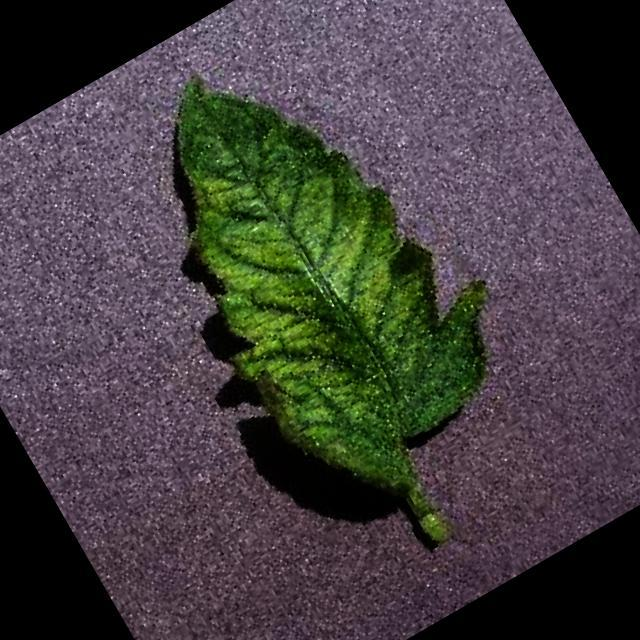Tomato mosaic virus leaf: (93, 1, 550, 528)
